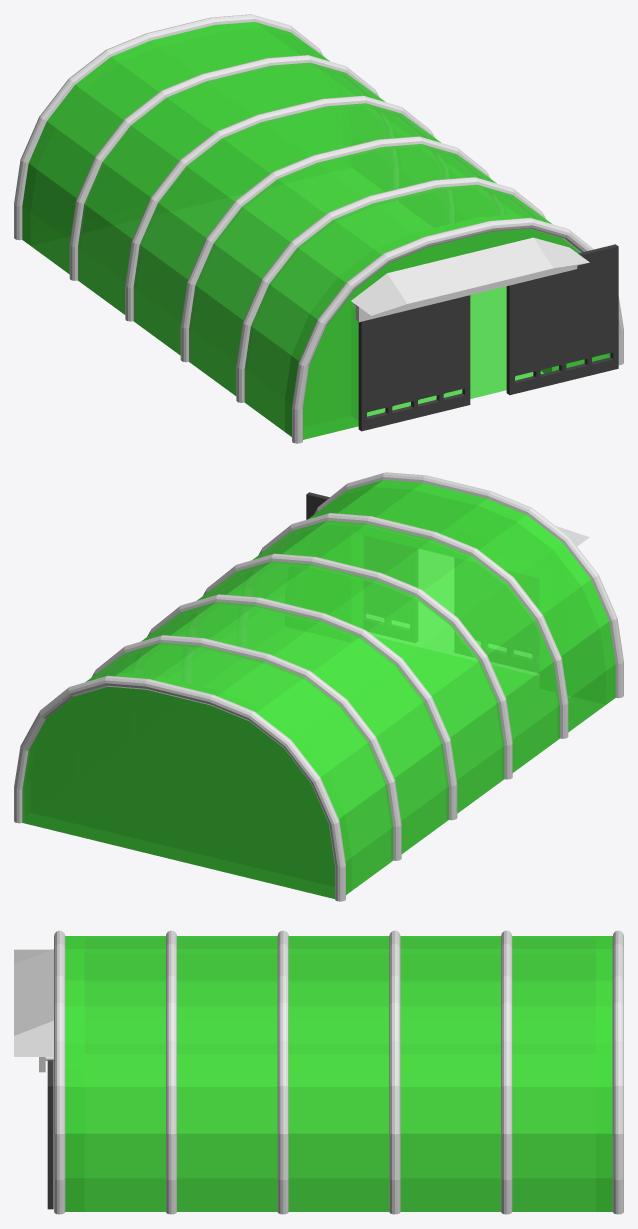
File: hangar.fbx
3 renders of one model, top to bottom at view 1: azimuth 30°, elevation 25°; view 2: azimuth 150°, elevation 25°; view 3: azimuth 270°, elevation 25°, orthographic.
Parts seen in each view (by area): view 1: beams; view 2: beams; view 3: beams.
Boxes of the visible parts, x1=… form: beams: x1=14, y1=14, x2=623, y2=443; beams: x1=14, y1=472, x2=623, y2=901; beams: x1=14, y1=930, x2=623, y2=1214.
Bounding box in the file's own units: 206 × 328 × 103.
